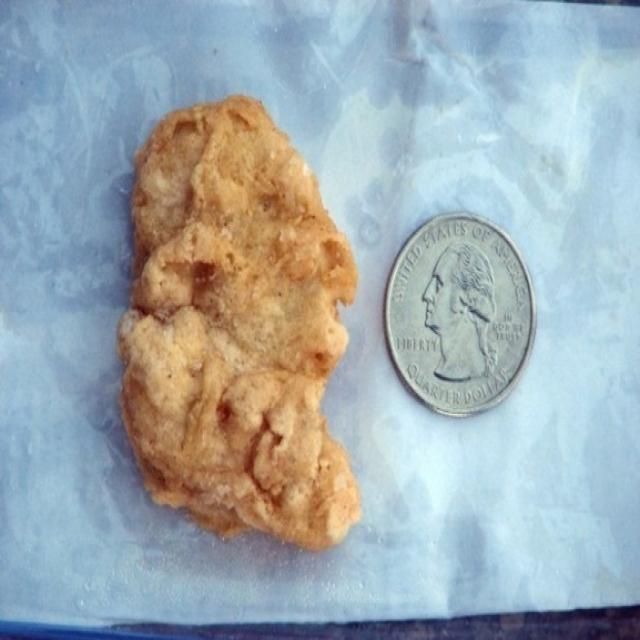鸡肉料理 含炸鸡: (106, 87, 370, 554)
